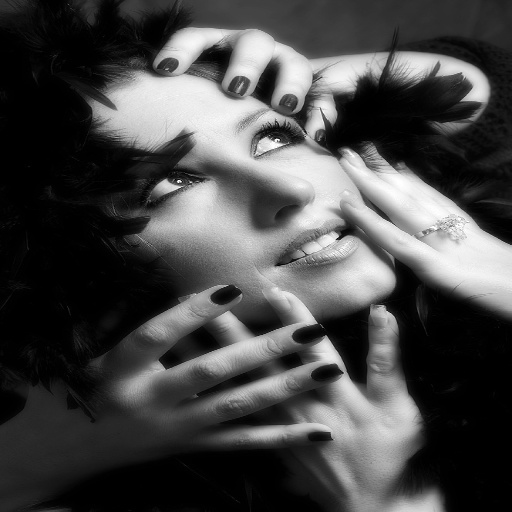hand: (14, 281, 346, 482), (158, 281, 435, 506), (333, 138, 511, 315), (301, 50, 491, 142), (147, 25, 316, 117)
